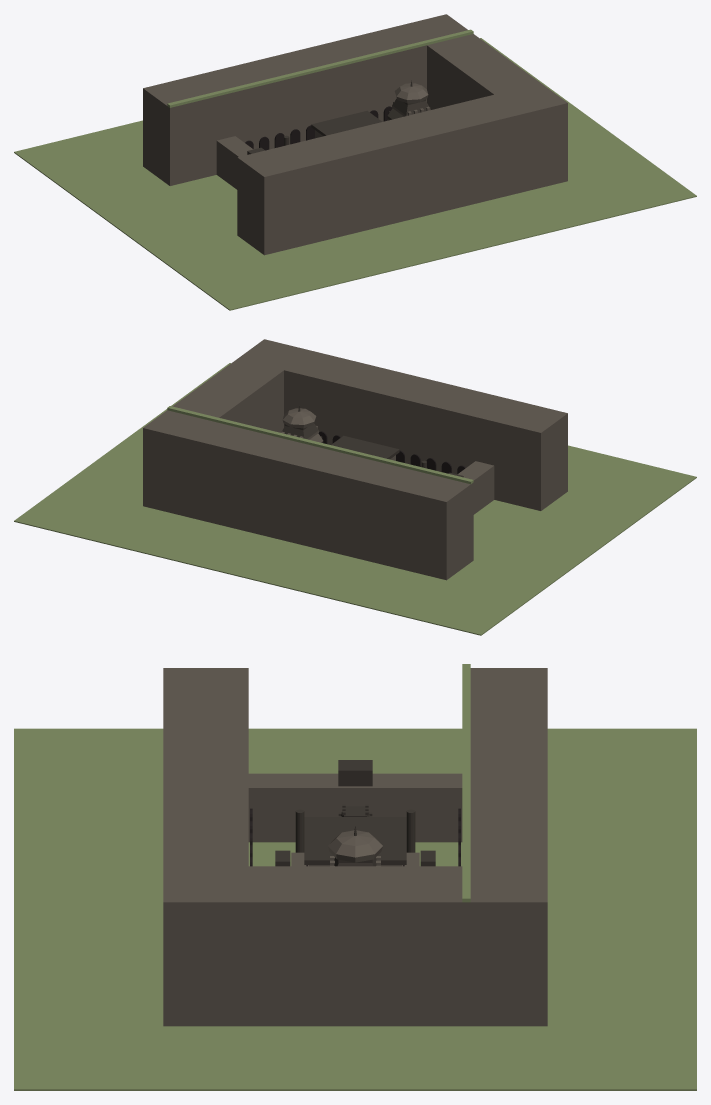
Rendered from ellora-caves.glb.
The picture shows the model from 3 angles, top to bottom: view 1: azimuth 30°, elevation 25°; view 2: azimuth 150°, elevation 25°; view 3: azimuth 270°, elevation 25°; orthographic projection. The views are drawn at different scales.
Parts seen in each view (by area): view 1: basalt, grass, basalt_d, void; view 2: basalt, grass, basalt_d, void; view 3: grass, basalt, basalt_d.
Part boxes in pixels (bbox=[...]): basalt: bbox=[143, 14, 567, 255]; grass: bbox=[14, 29, 696, 310]; basalt_d: bbox=[247, 80, 430, 154]; void: bbox=[245, 106, 392, 150]; basalt: bbox=[143, 339, 567, 580]; grass: bbox=[14, 363, 696, 635]; basalt_d: bbox=[281, 405, 463, 477]; void: bbox=[318, 431, 465, 473]; grass: bbox=[14, 664, 696, 1090]; basalt: bbox=[163, 668, 547, 1026]; basalt_d: bbox=[275, 760, 435, 866].
Bounding box in the file's own units: 200 × 33.4 × 160.
